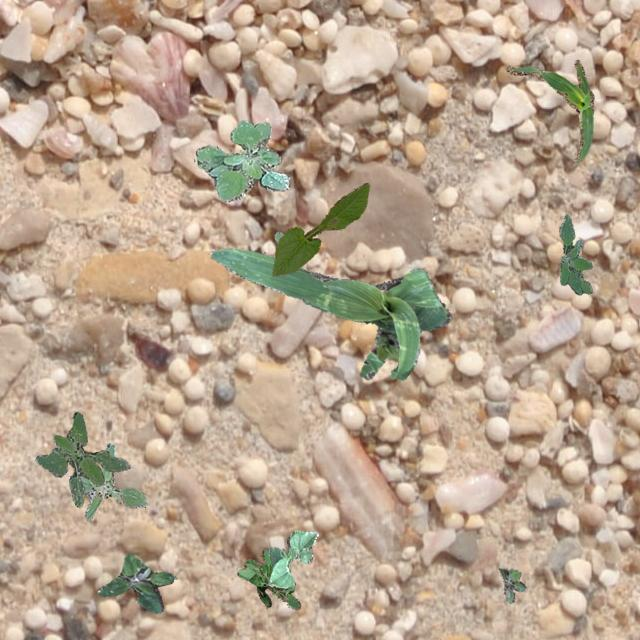crop: (210, 248, 450, 378), (504, 59, 592, 162), (272, 182, 368, 274), (268, 530, 318, 586)
weed: (34, 411, 130, 506), (194, 120, 290, 200), (80, 442, 146, 520), (96, 552, 174, 612), (237, 546, 300, 608), (558, 214, 592, 294), (498, 566, 524, 602), (274, 230, 282, 242)
